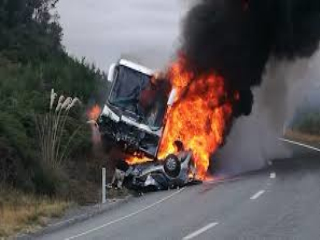fire: (156, 69, 227, 165)
smoke: (167, 6, 313, 104)
